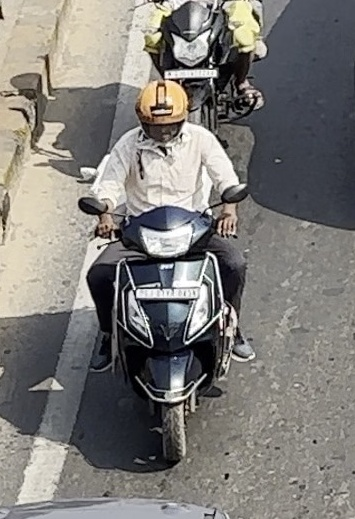BikeWithRider: (60, 68, 278, 474)
Helmet: (129, 77, 193, 149)
